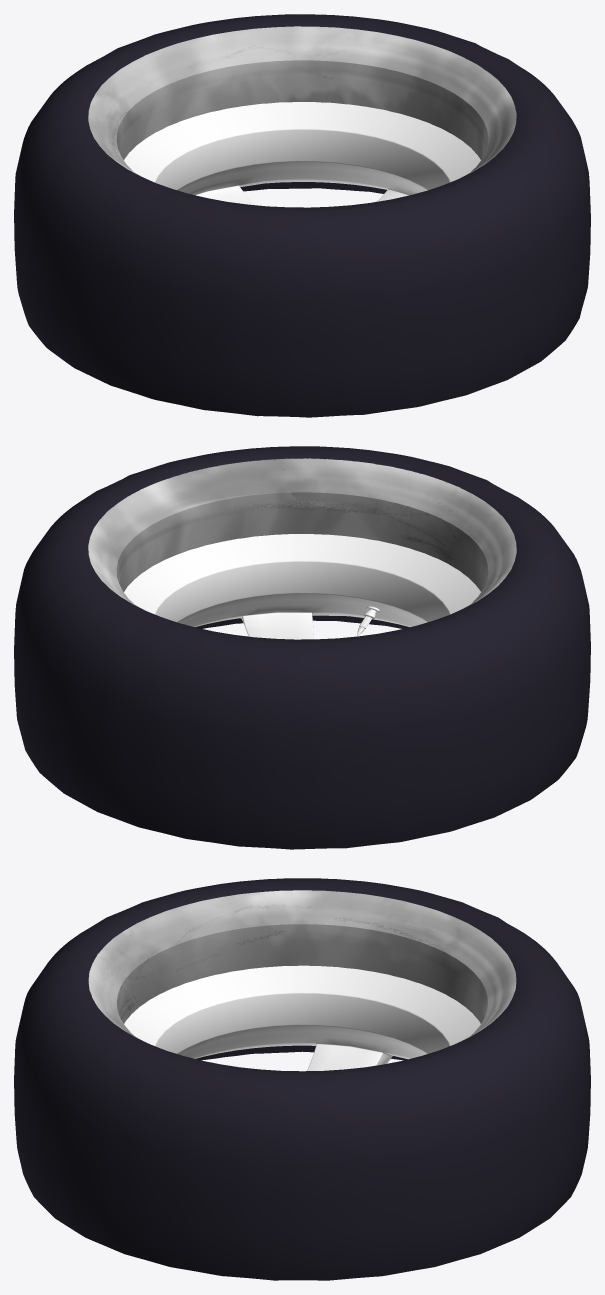
File: Tire.fbx
3 views of the same model, one above another, from view 1: azimuth 30°, elevation 25°; view 2: azimuth 150°, elevation 25°; view 3: azimuth 270°, elevation 25° (orthographic).
Parts seen in each view (by area): view 1: Tire.001, Rim.004; view 2: Tire.001, Rim.004; view 3: Tire.001, Rim.004.
Boxes of the visible parts, x1,y1,x2,y2 form: Tire.001: [14, 14, 590, 417]; Rim.004: [124, 102, 480, 204]; Tire.001: [14, 446, 590, 849]; Rim.004: [124, 534, 480, 639]; Tire.001: [14, 878, 590, 1280]; Rim.004: [124, 965, 480, 1070].
Bounding box in the file's own units: 200 × 72.06 × 200.
